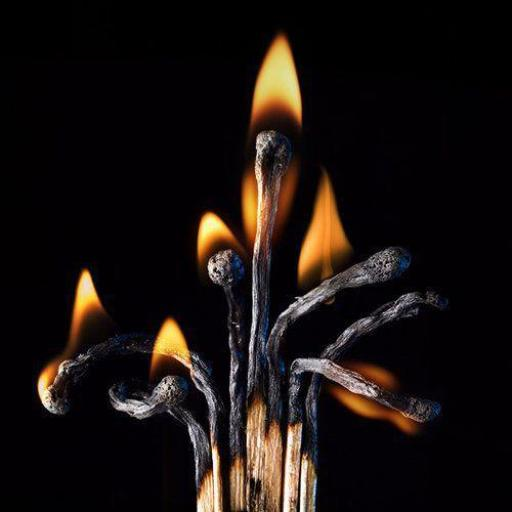fire: (179, 47, 385, 287), (31, 256, 210, 419), (312, 351, 426, 437)
